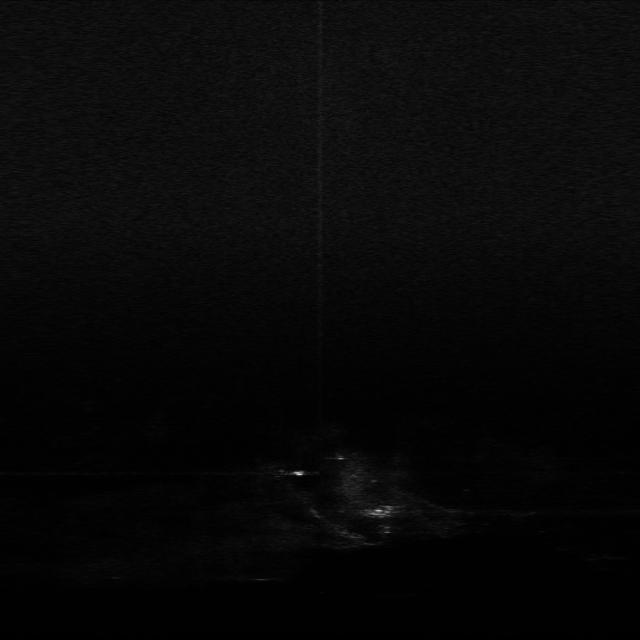rov: (366, 501, 398, 521)
